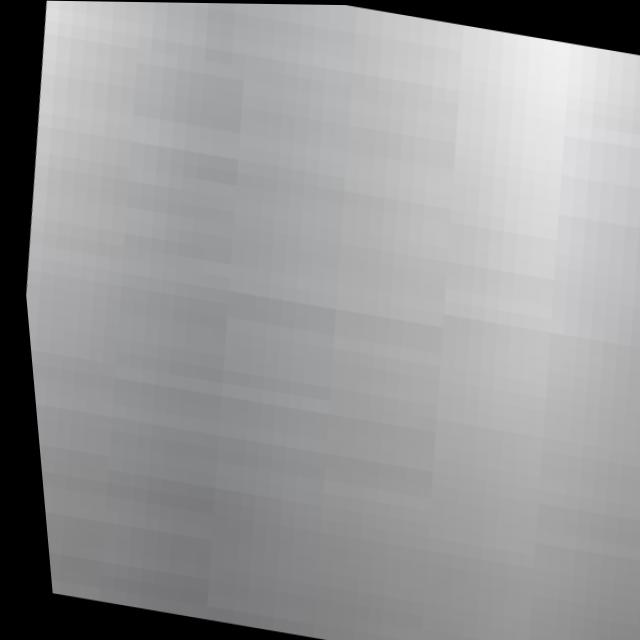metal-plates: (22, 2, 640, 640)
